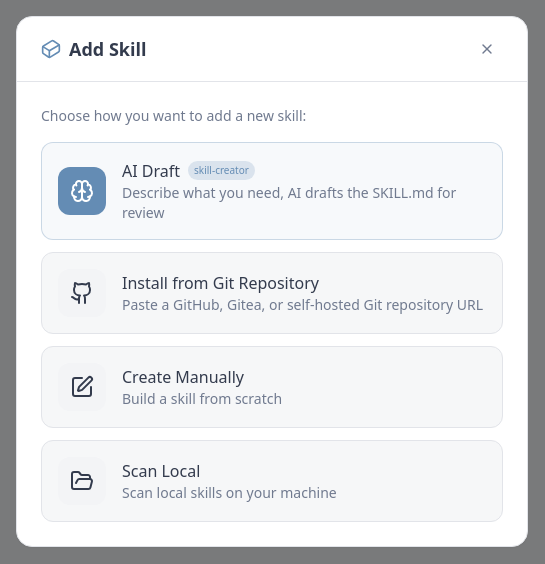
CreateSkillModal GitHub import › splits local scan into Agent import and explicit folder import choices
What coordinates should you click on to do the following:
click the heading "Scan Local"
I would click on:
 (161, 470)
Its box is [122,460,200,482].
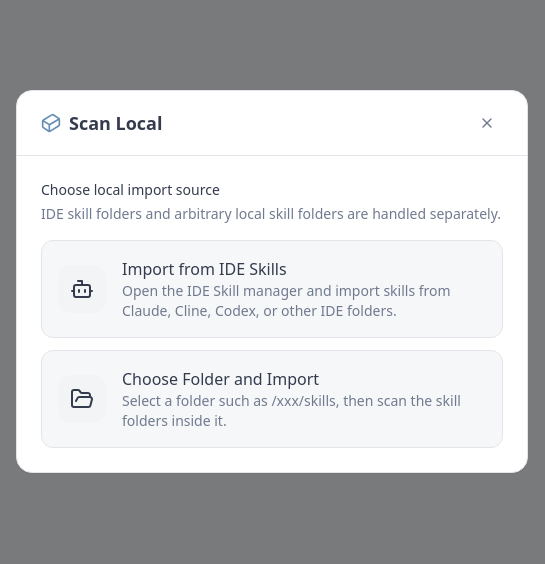
Result: the heading "Choose local import source" is shown at [41,180,220,198]
Result: the heading "Import from IDE Skills" is shown at [122,258,287,280]
Result: the heading "Choose Folder and Import" is shown at [122,368,319,390]
